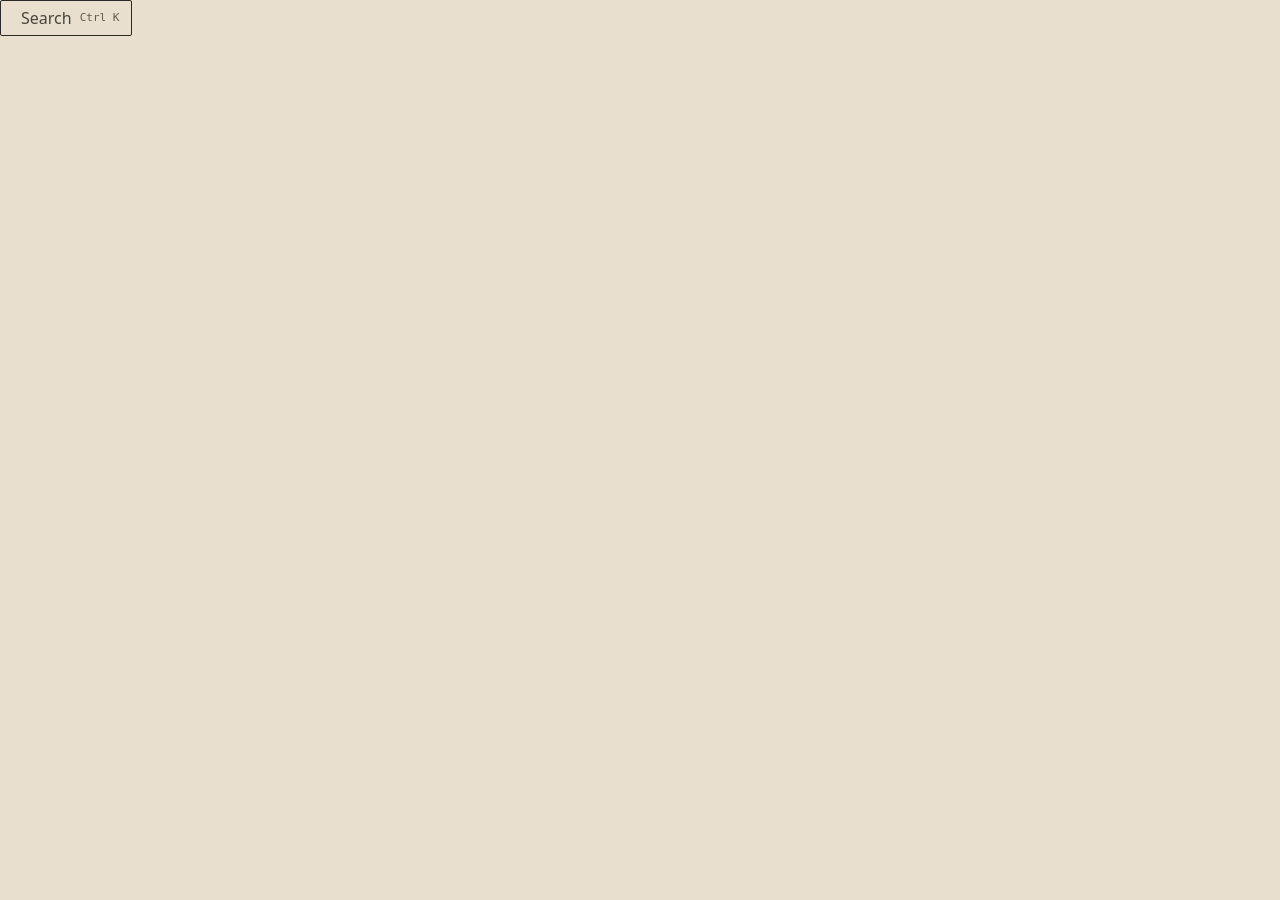
it: search › opens with Ctrl+K, queries the server and goes to a hit
Later steps or results of the test are not shown.
Type keys "{Control>}k{/Control}"
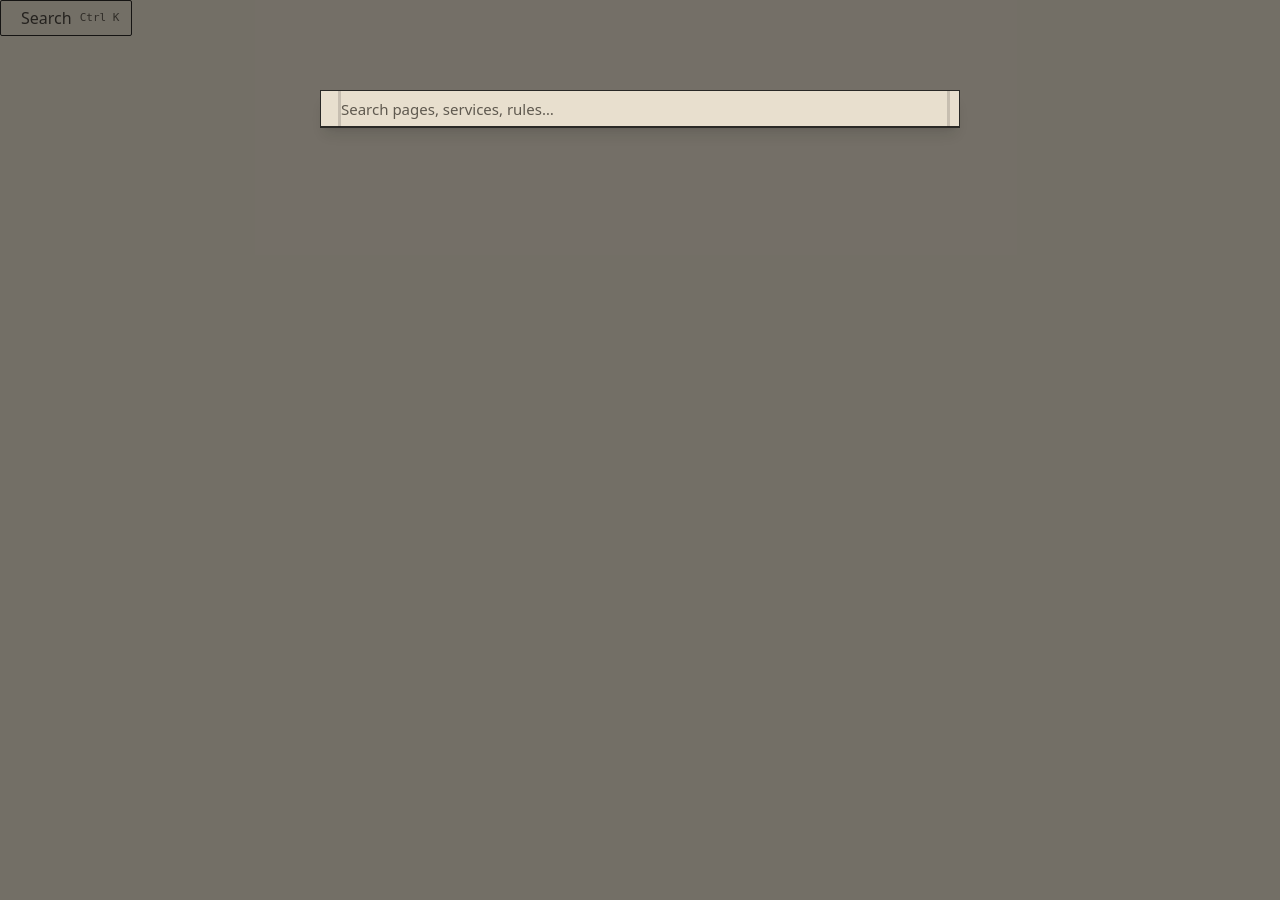
Type "shop" into the dropdown. click: (644, 108)
box: [341,84,947,132]
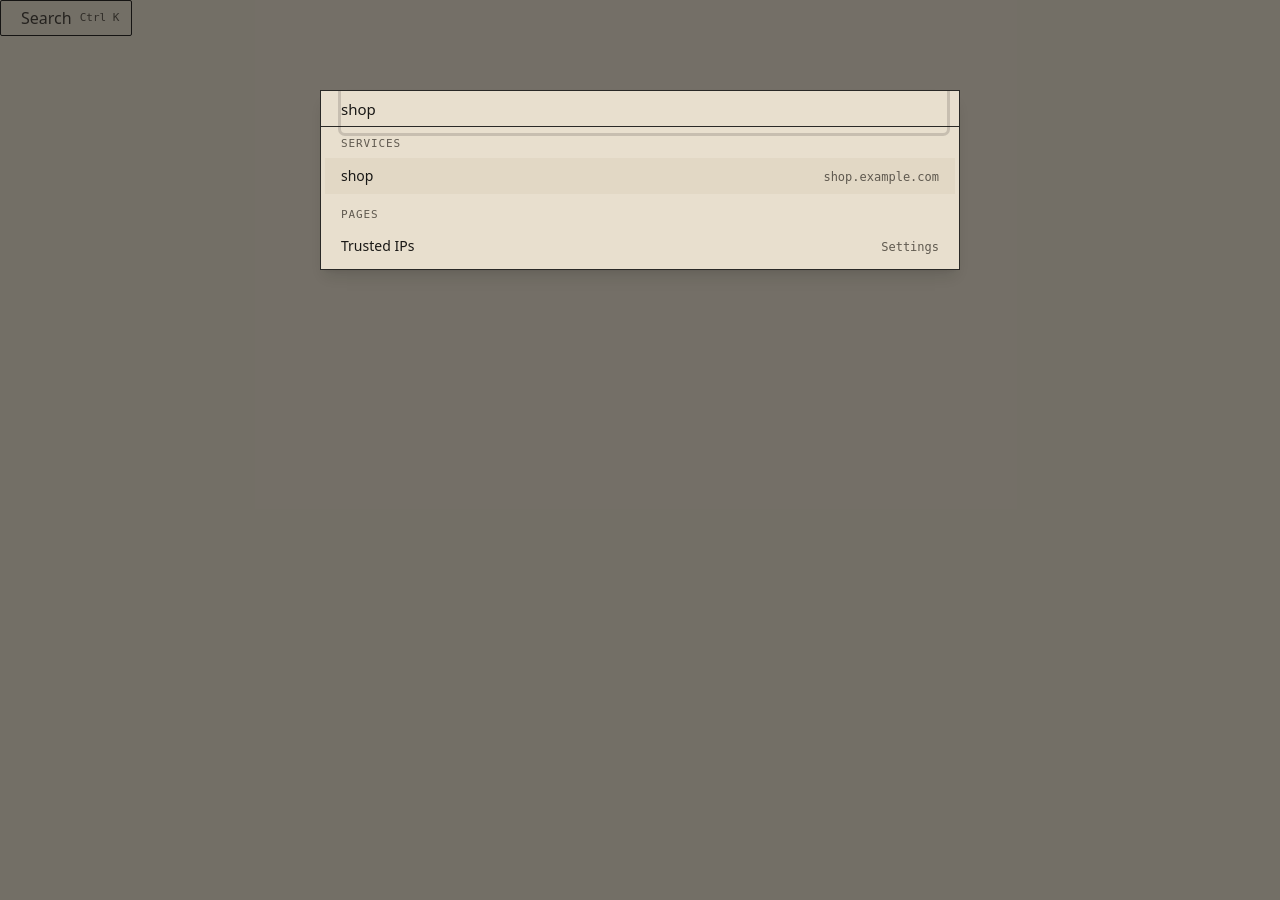
Now the text "shop.example.com" is shown, box [823,169,939,186]
Now the text "Services" is shown, box [341,137,401,150]
